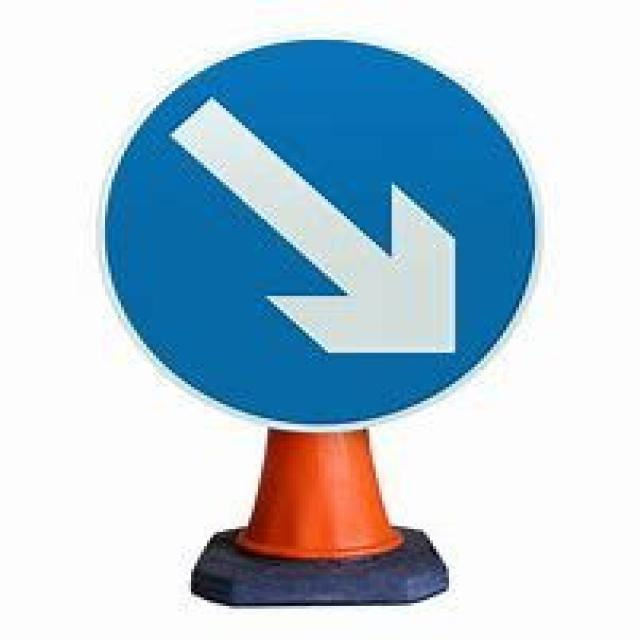COMPULSARY_KEEP_RIGHT: (96, 34, 537, 434)
